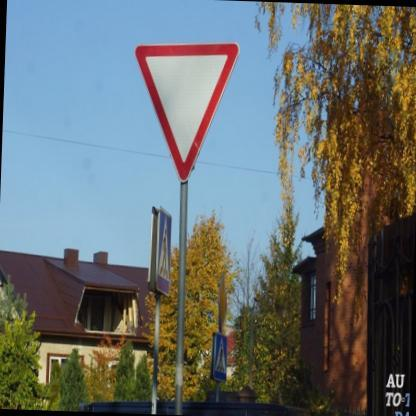road_sign: (136, 45, 238, 182), (149, 208, 171, 295), (212, 333, 227, 381)
